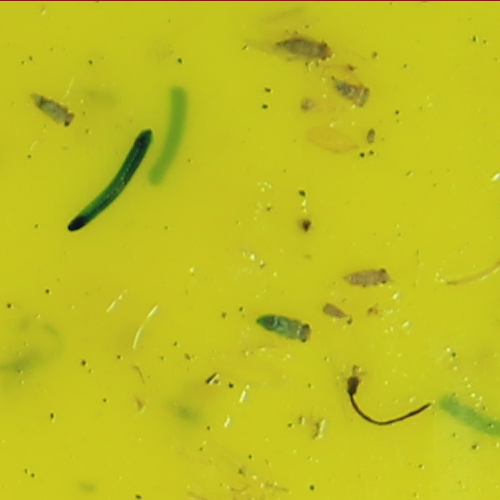psylla: (274, 31, 334, 72), (251, 307, 314, 345), (33, 93, 75, 129), (343, 262, 393, 289), (331, 76, 372, 108)
